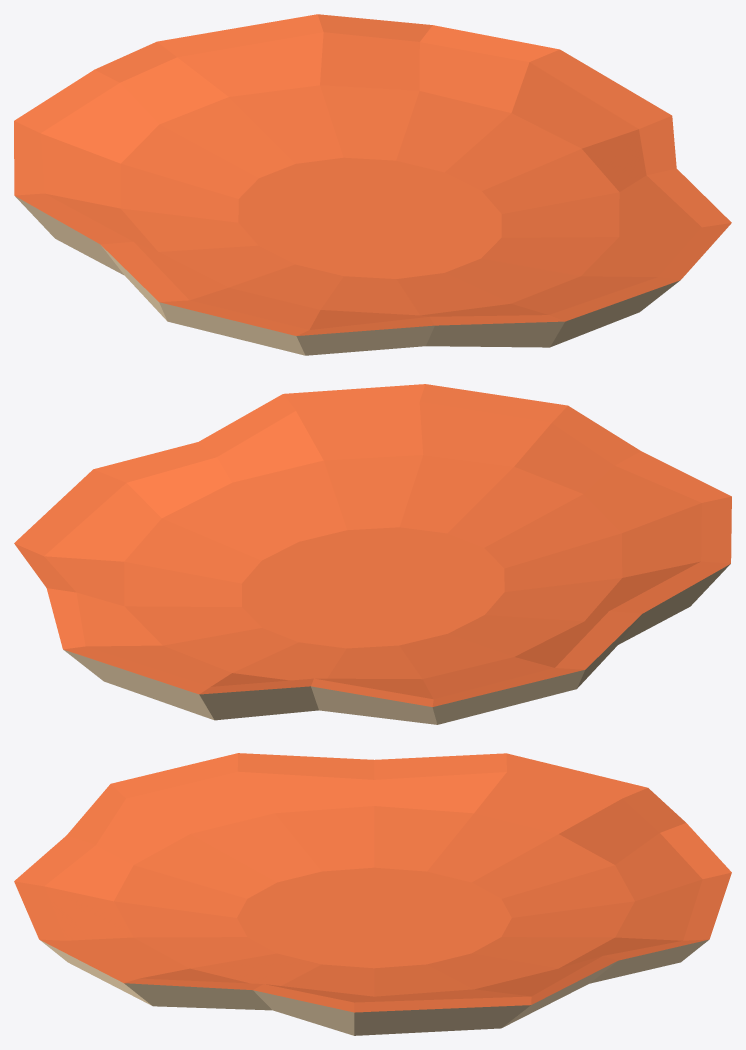
File: Shelf Mushroom.fbx
The picture shows the model from 3 angles, top to bottom: view 1: azimuth 30°, elevation 25°; view 2: azimuth 150°, elevation 25°; view 3: azimuth 270°, elevation 25°; orthographic projection. The views are drawn at different scales.
Parts seen in each view (by area): view 1: Mushroom Shelf; view 2: Mushroom Shelf; view 3: Mushroom Shelf.
Boxes of the visible parts, x1,y1,x2,y2 form: Mushroom Shelf: (14,14,731,355); Mushroom Shelf: (14,384,731,724); Mushroom Shelf: (14,753,731,1035).
Size of the model in its own units: 692 by 167 by 809.
